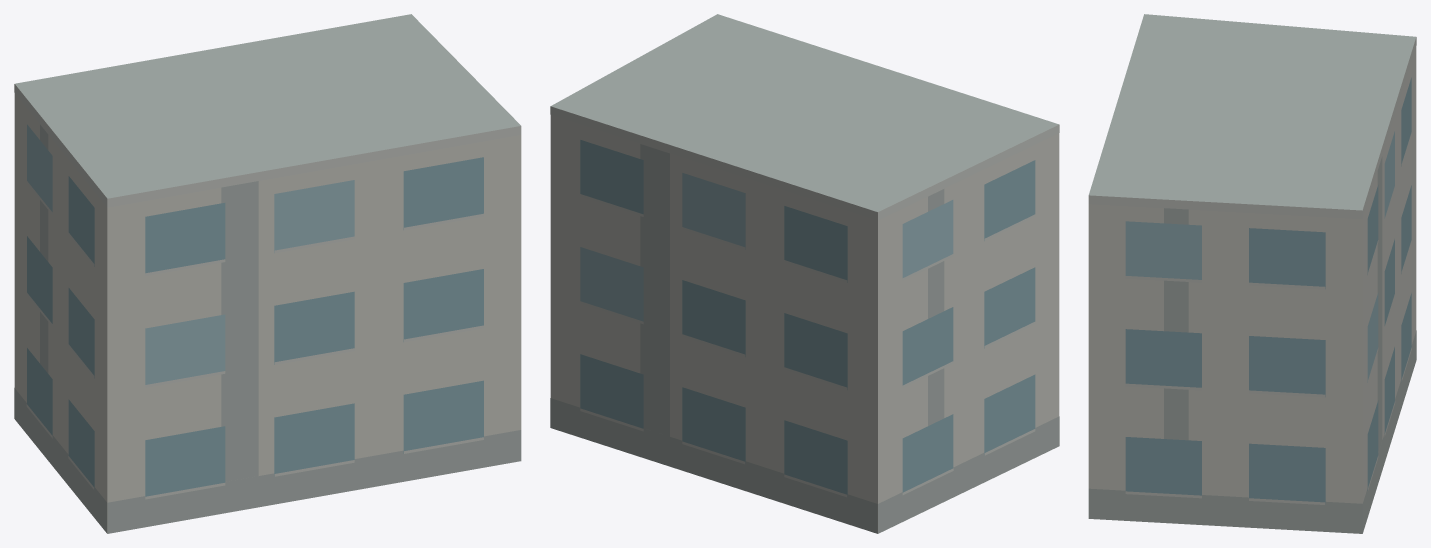
The model's file is residential-35f0b9a2-b7ea-442f-967e-c4cf0102563c.glb.
3 views of the same model, side by side, from view 1: azimuth 30°, elevation 25°; view 2: azimuth 150°, elevation 25°; view 3: azimuth 270°, elevation 25° (orthographic). The views are drawn at different scales.
Parts seen in each view (by area): view 1: residential-35f0b9a2-b7ea-442f-967e-c4cf0102563c.tmp; view 2: residential-35f0b9a2-b7ea-442f-967e-c4cf0102563c.tmp; view 3: residential-35f0b9a2-b7ea-442f-967e-c4cf0102563c.tmp.
Boxes of the visible parts, x1=… form: residential-35f0b9a2-b7ea-442f-967e-c4cf0102563c.tmp: x1=14, y1=14, x2=521, y2=533; residential-35f0b9a2-b7ea-442f-967e-c4cf0102563c.tmp: x1=550, y1=14, x2=1059, y2=533; residential-35f0b9a2-b7ea-442f-967e-c4cf0102563c.tmp: x1=1088, y1=14, x2=1416, y2=533.
Size of the model in its own units: 11.93 by 9.15 by 8.42.
